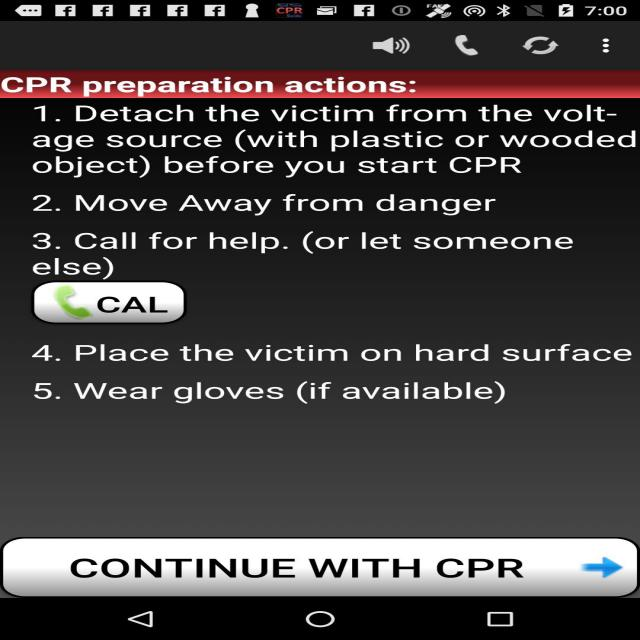button: (4, 536, 640, 596), (33, 282, 195, 323), (348, 30, 434, 62), (444, 28, 502, 65), (512, 30, 576, 59), (590, 32, 632, 66)
text: (3, 99, 640, 182), (15, 225, 613, 282), (11, 375, 562, 413), (10, 339, 640, 370), (8, 188, 546, 224), (53, 550, 540, 585), (0, 71, 443, 99)
